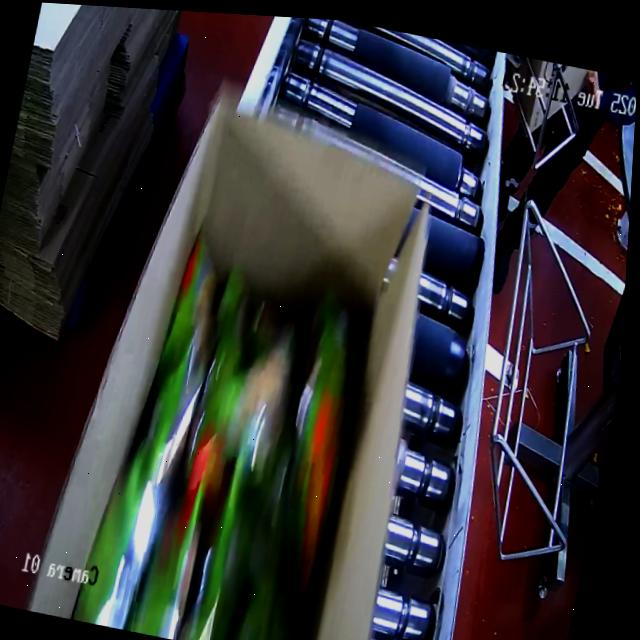YOGURT_HERB: (77, 250, 389, 640)
